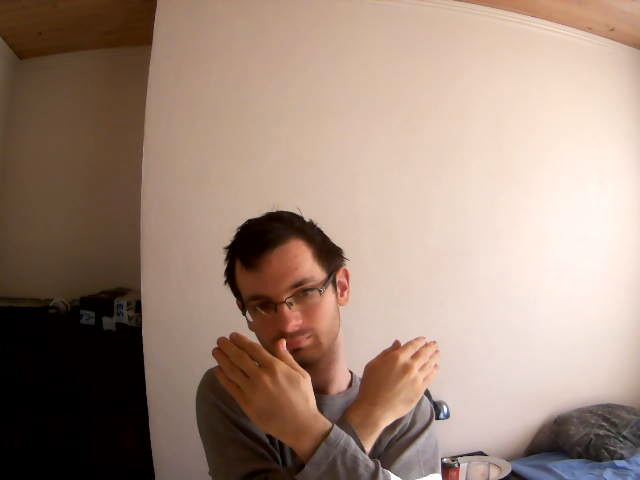butterfly: (208, 329, 443, 440)
